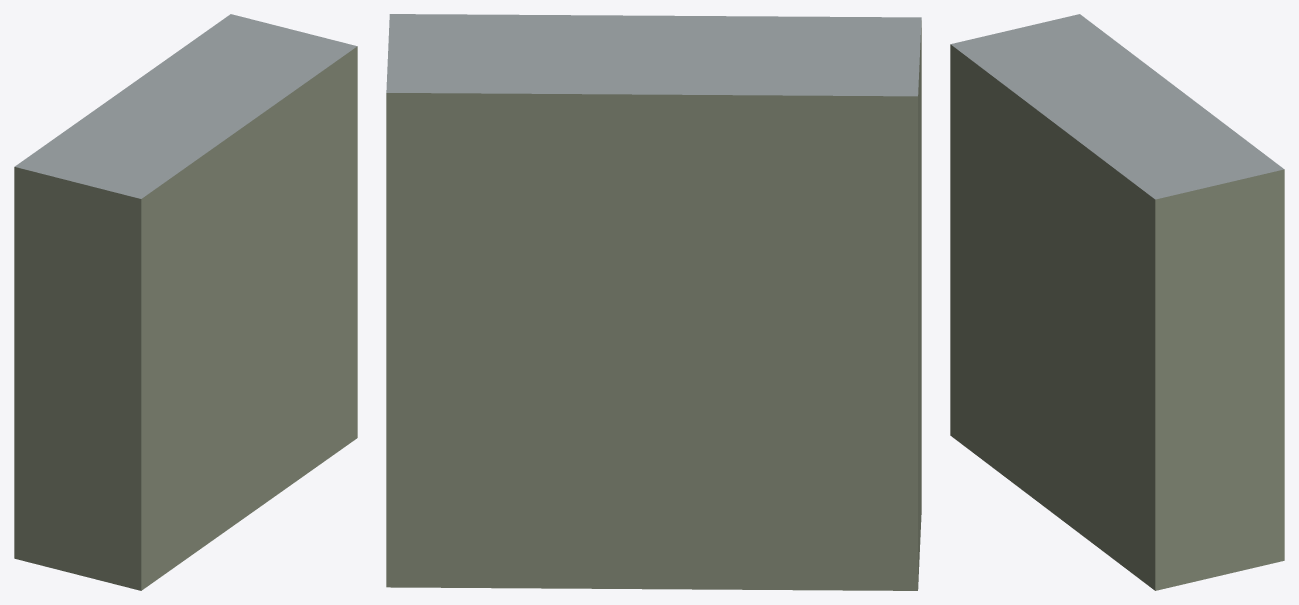
Rendered from nyc-1080741-0.glb.
The picture shows the model from 3 angles, left to right: view 1: azimuth 30°, elevation 25°; view 2: azimuth 150°, elevation 25°; view 3: azimuth 270°, elevation 25°; orthographic projection. The views are drawn at different scales.
Parts seen in each view (by area): view 1: nyc-1080741-0; view 2: nyc-1080741-0; view 3: nyc-1080741-0.
Boxes of the visible parts, left/top/right/bottom form: nyc-1080741-0: left=14, top=14, right=357, bottom=590; nyc-1080741-0: left=386, top=14, right=921, bottom=590; nyc-1080741-0: left=950, top=14, right=1284, bottom=590.
Size of the model in its own units: 19.1 by 18.78 by 14.53.
